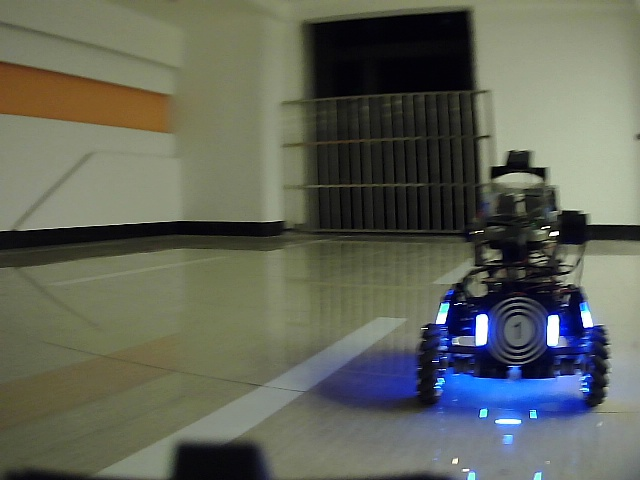lamp: (544, 312, 561, 349), (474, 313, 489, 348)
pair: (474, 312, 561, 349)
